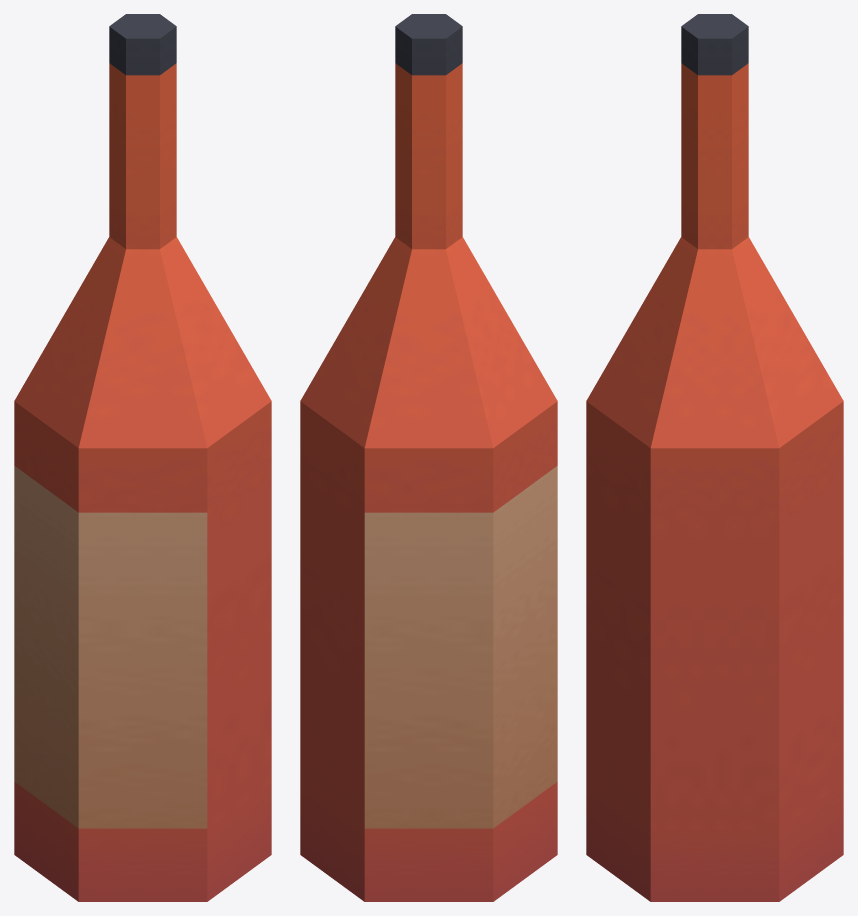
The model's file is bottleTall.fbx.
3 views of the same model, side by side, from view 1: azimuth 30°, elevation 25°; view 2: azimuth 150°, elevation 25°; view 3: azimuth 270°, elevation 25° (orthographic).
Visible parts, largest first — view 1: bottleTall; view 2: bottleTall; view 3: bottleTall.
Boxes of the visible parts, x1,y1,x2,y2 form: bottleTall: (14, 14, 271, 901); bottleTall: (300, 14, 557, 901); bottleTall: (586, 14, 843, 901).
Bounding box in the file's own units: 0.0624 × 0.072 × 0.2556.
